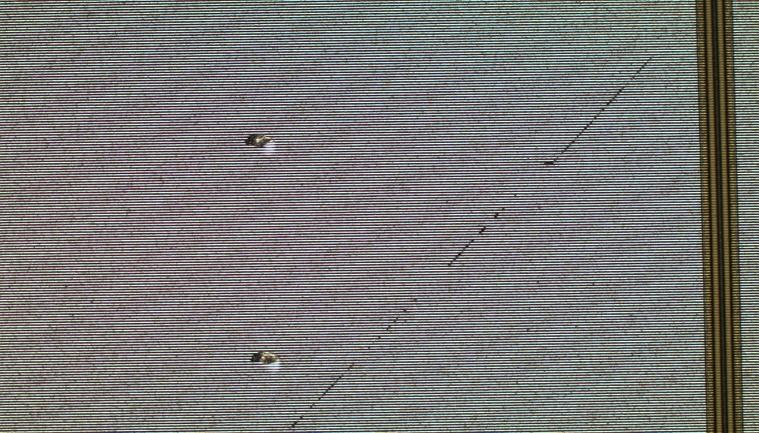SCRATCH: (264, 11, 697, 433)
